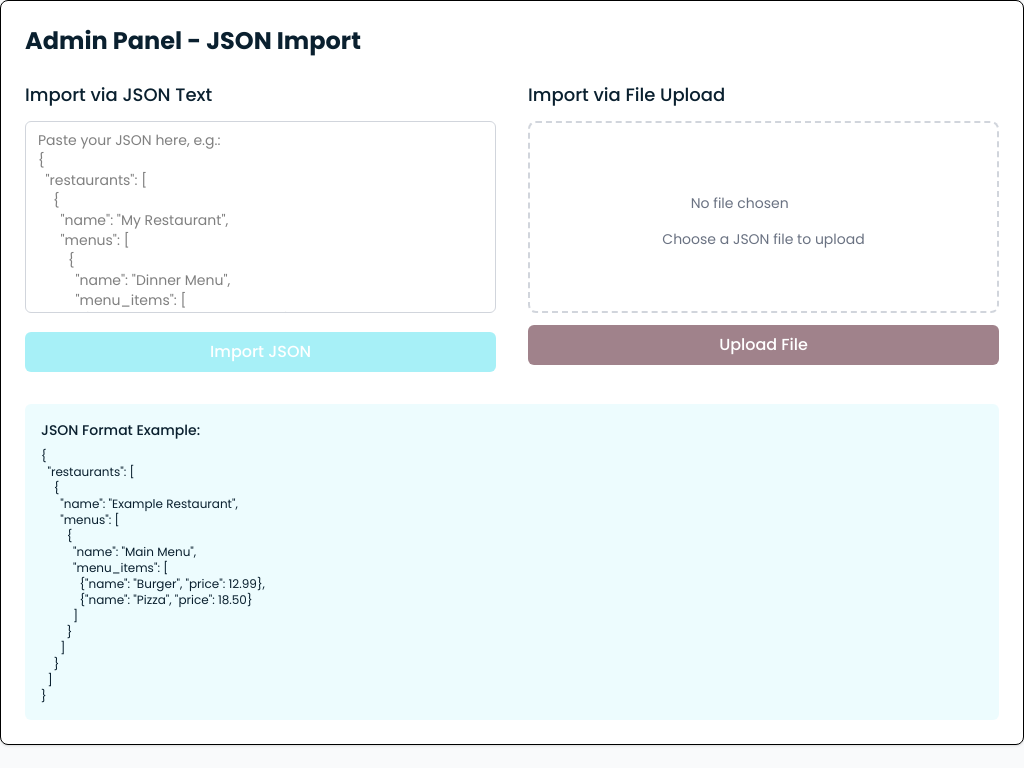
AdminPanel › handles import errors
Replace the text in the text box with placeholder "Paste your JSON here" with "invalid json": (260, 217) [25,121,496,313]
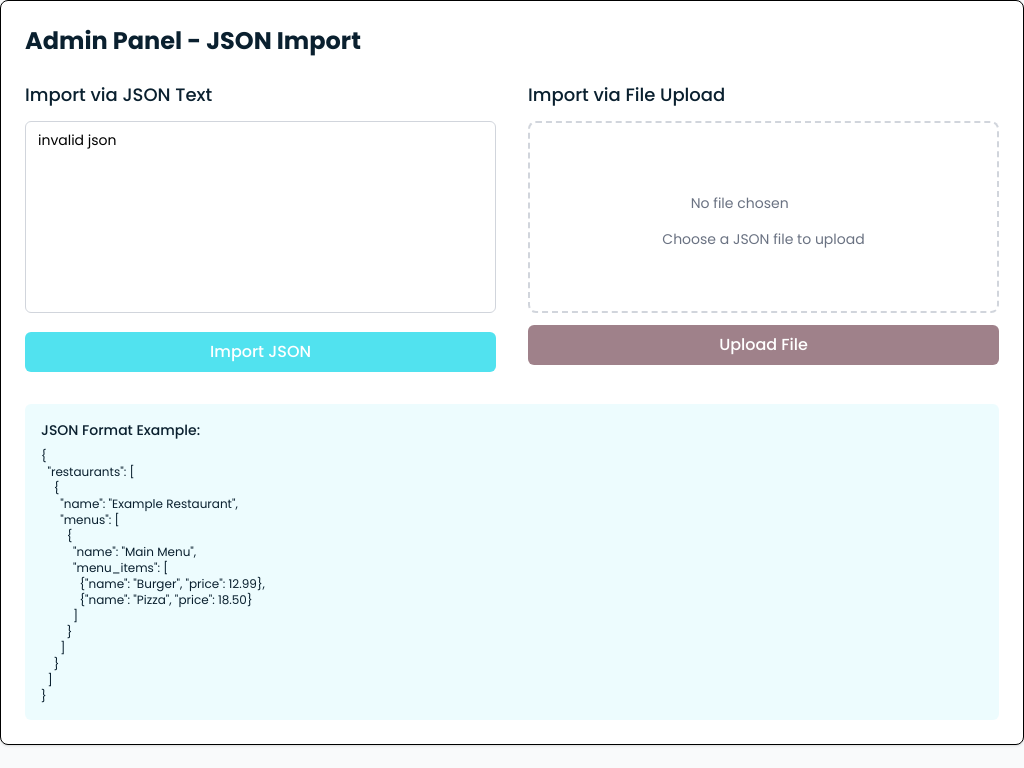
Click the button "Import JSON": (260, 352) [25,332,496,372]
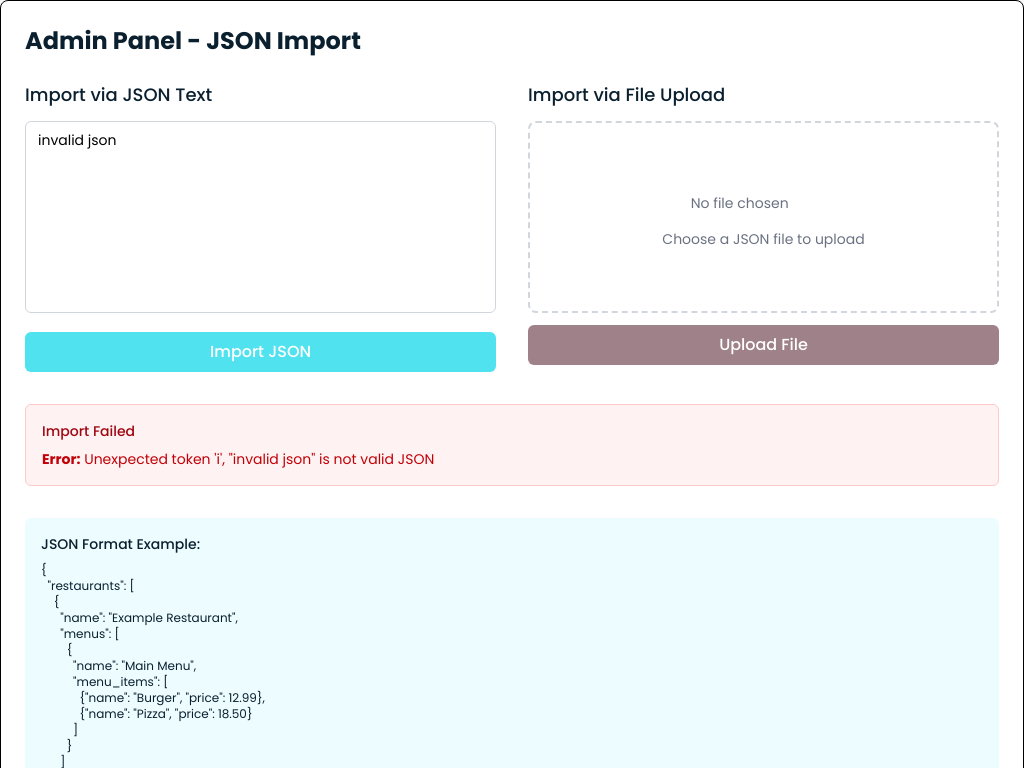
Expected: the text "Import Failed" is shown, [42,421,135,441]
Expected: the text "Unexpected token" is shown, [84,449,434,469]
